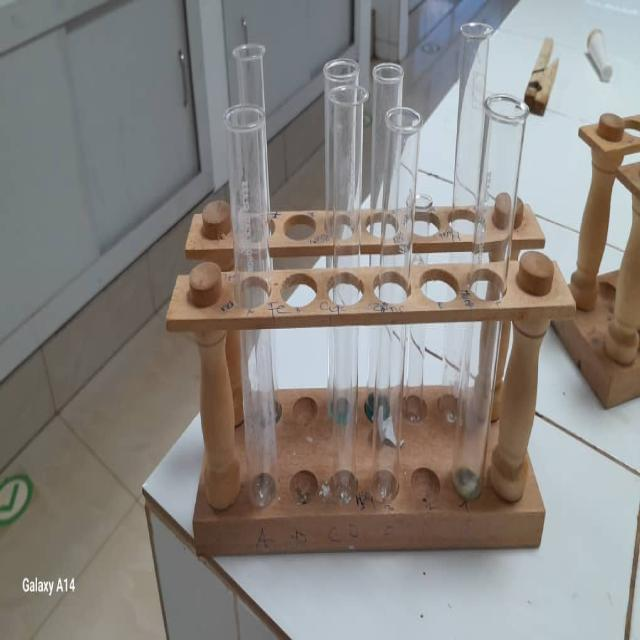Test Tube Racks: (166, 163, 564, 562)
